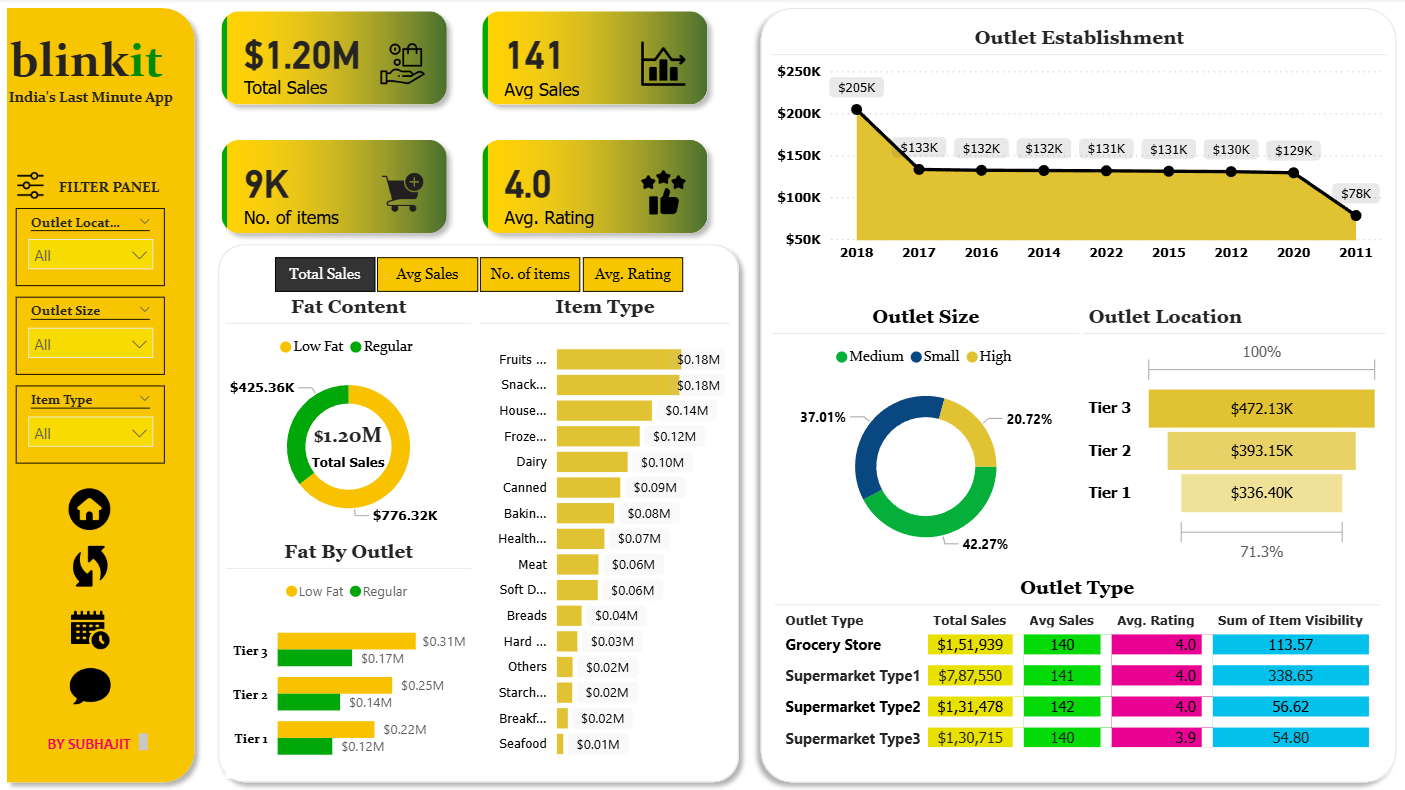

What the dashboard file says about the page in this screenshot:
{"tool":"powerbi","page":{"name":"Page 1","canvas":[1280,720],"ordinal":0},"visuals":[{"type":"shape","box":[0,0,187.1,716.4],"z":0},{"type":"textbox","box":[6.3,25.2,164.7,88.1],"z":1000},{"type":"textbox","box":[5.2,74.5,159.5,34.6],"z":2000},{"type":"cardVisual","fields":{"Data":["BlinkIT Grocery Data.Total Sales","BlinkIT Grocery Data.Avg Sales","BlinkIT Grocery Data.No. of items","BlinkIT Grocery Data.Avg. Rating"]},"box":[190.7,0,463.7,224.1],"z":3000},{"type":"shape","box":[190.7,213.4,487.5,503],"z":4000},{"type":"donutChart","title":"Fat Content","fields":{"Y":["BlinkIT Grocery Data.Total Sales"],"Category":["BlinkIT Grocery Data.Item Fat Content"]},"box":[206.2,268.2,221.7,216.9],"z":5000},{"type":"slicer","fields":{"Values":["Matrix.Matrix"]},"box":[224.1,226.5,418.4,45.3],"z":6000},{"type":"card","fields":{"Values":["BlinkIT Grocery Data.Total Sales"]},"box":[734.5,404,205.7,85],"z":7000},{"type":"clusteredBarChart","title":"Fat By Outlet","fields":{"Y":["BlinkIT Grocery Data.Total Sales"],"Category":["BlinkIT Grocery Data.Outlet Location Type"],"Series":["BlinkIT Grocery Data.Item Fat Content"]},"box":[206.2,488.7,221.7,214.6],"z":8000},{"type":"barChart","title":"Item Type","fields":{"Y":["BlinkIT Grocery Data.Total Sales"],"Category":["BlinkIT Grocery Data.Item Type"]},"box":[435.1,268.2,226.5,426.7],"z":9000},{"type":"shape","box":[679.5,0,591.2,716.4],"z":10000},{"type":"lineChart","title":"Outlet Establishment","fields":{"Y":["BlinkIT Grocery Data.Total Sales"],"Category":["BlinkIT Grocery Data.Outlet Establishment Year"]},"box":[698.5,26.2,554.3,219.3],"z":11000},{"type":"donutChart","title":" Outlet Size","fields":{"Y":["BlinkIT Grocery Data.Total Sales"],"Category":["BlinkIT Grocery Data.Outlet Size"]},"box":[698.5,277.7,277.7,234.8],"z":12000},{"type":"funnel","title":"Outlet Location","fields":{"Y":["BlinkIT Grocery Data.Total Sales"],"Category":["BlinkIT Grocery Data.Outlet Location Type"]},"box":[979.8,277.7,273,234.8],"z":13000},{"type":"pivotTable","title":"Outlet Type","fields":{"Rows":["BlinkIT Grocery Data.Outlet Type"],"Values":["BlinkIT Grocery Data.Total Sales","BlinkIT Grocery Data.Avg Sales","BlinkIT Grocery Data.Avg. Rating","Sum(BlinkIT Grocery Data.Item Visibility)"]},"box":[700.9,522.1,545.9,169.3],"z":14000},{"type":"image","box":[10.5,152.2,39.9,33.6],"z":15000},{"type":"textbox","box":[50.4,155.3,100.7,28.3],"z":16000},{"type":"slicer","fields":{"Values":["BlinkIT Grocery Data.Outlet Location Type"]},"box":[16.7,189.5,134.7,70.3],"z":17000},{"type":"slicer","fields":{"Values":["BlinkIT Grocery Data.Outlet Size"]},"box":[16.7,269.4,134.7,70.3],"z":18000},{"type":"slicer","fields":{"Values":["BlinkIT Grocery Data.Item Type"]},"box":[16.7,349.3,134.7,70.3],"z":19000},{"type":"image","box":[59.6,437.5,47.7,47.7],"z":20000},{"type":"image","box":[60.8,488.7,46.5,46.5],"z":21000},{"type":"image","box":[60.8,547.1,46.5,46.5],"z":22000},{"type":"image","box":[60.8,597.2,46.5,46.5],"z":23000},{"type":"textbox","box":[32.5,657.9,108.1,25.2],"z":24000},{"type":"card","fields":{"Values":["BlinkIT Grocery Data.Total Sales"]},"box":[277.7,379.1,78.7,46.5],"z":24001}]}

Visuals, with their boxes in screenshot pixels (x1, y1, x2, y2), scaled from the page's 1280x720 canvas onto the 1405x790 screenshot:
shape: (0, 0, 205, 786)
textbox: (7, 28, 188, 124)
textbox: (6, 82, 181, 120)
cardVisual - BlinkIT Grocery Data.Total Sales x BlinkIT Grocery Data.Avg Sales: (209, 0, 718, 246)
shape: (209, 234, 744, 786)
"Fat Content" donutChart: (226, 294, 470, 532)
slicer - Matrix.Matrix: (246, 249, 705, 298)
card - BlinkIT Grocery Data.Total Sales: (806, 443, 1032, 537)
"Fat By Outlet" clusteredBarChart: (226, 536, 470, 772)
"Item Type" barChart: (478, 294, 726, 762)
shape: (746, 0, 1395, 786)
"Outlet Establishment" lineChart: (767, 29, 1375, 269)
" Outlet Size" donutChart: (767, 305, 1072, 562)
"Outlet Location" funnel: (1075, 305, 1375, 562)
"Outlet Type" pivotTable: (769, 573, 1369, 759)
image: (12, 167, 55, 204)
textbox: (55, 170, 166, 201)
slicer - BlinkIT Grocery Data.Outlet Location Type: (18, 208, 166, 285)
slicer - BlinkIT Grocery Data.Outlet Size: (18, 296, 166, 373)
slicer - BlinkIT Grocery Data.Item Type: (18, 383, 166, 460)
image: (65, 480, 118, 532)
image: (67, 536, 118, 587)
image: (67, 600, 118, 651)
image: (67, 655, 118, 706)
textbox: (36, 722, 154, 750)
card - BlinkIT Grocery Data.Total Sales: (305, 416, 391, 467)
